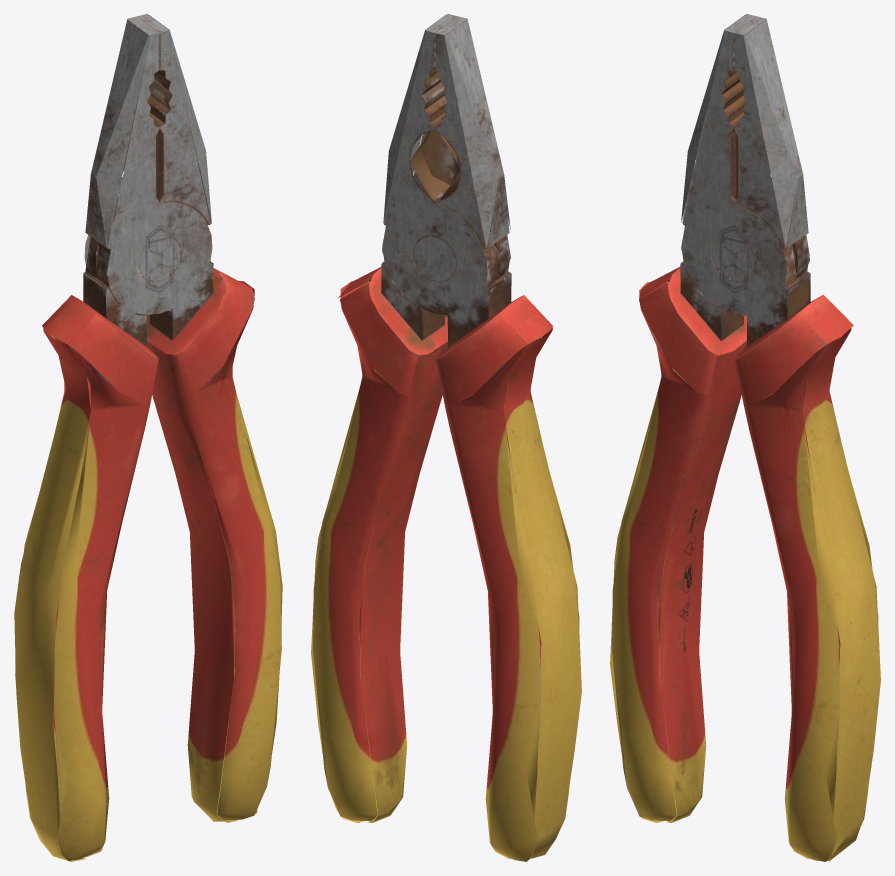
File: pliers.glb
The picture shows the model from 3 angles, left to right: view 1: azimuth 30°, elevation 25°; view 2: azimuth 150°, elevation 25°; view 3: azimuth 330°, elevation 25°; orthographic projection.
Parts seen in each view (by area): view 1: pliers; view 2: pliers; view 3: pliers.
Boxes of the visible parts, x1,y1,x2,y2 form: pliers: [14, 14, 282, 861]; pliers: [311, 14, 581, 861]; pliers: [610, 14, 880, 861].
Size of the model in its own units: 0.0551 by 0.18 by 0.0183.
1 material, 1 textured.
